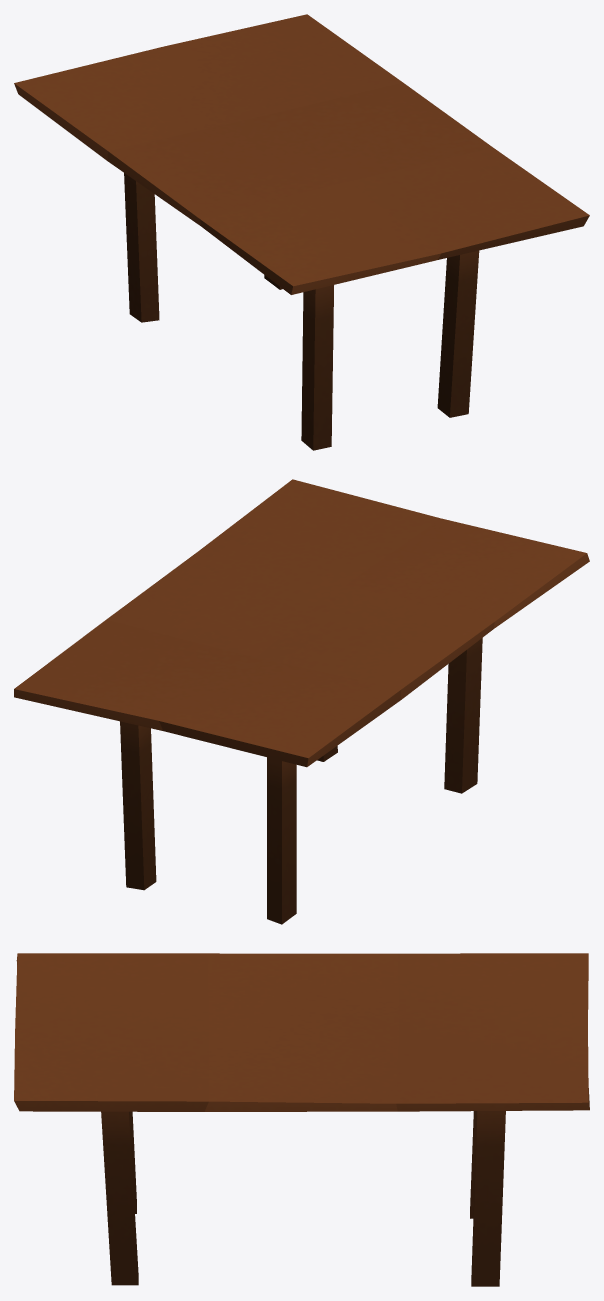
The model's file is furniture_table0.fbx.
3 views of the same model, one above another, from view 1: azimuth 30°, elevation 25°; view 2: azimuth 150°, elevation 25°; view 3: azimuth 270°, elevation 25° (orthographic). The views are drawn at different scales.
Visible parts, largest first — view 1: furniture_table0; view 2: furniture_table0; view 3: furniture_table0.
Boxes of the visible parts, bbox=[...] form: furniture_table0: bbox=[14, 14, 589, 450]; furniture_table0: bbox=[14, 479, 589, 924]; furniture_table0: bbox=[14, 953, 589, 1286].
Size of the model in its own units: 0.7133 by 1.17 by 0.4965.
